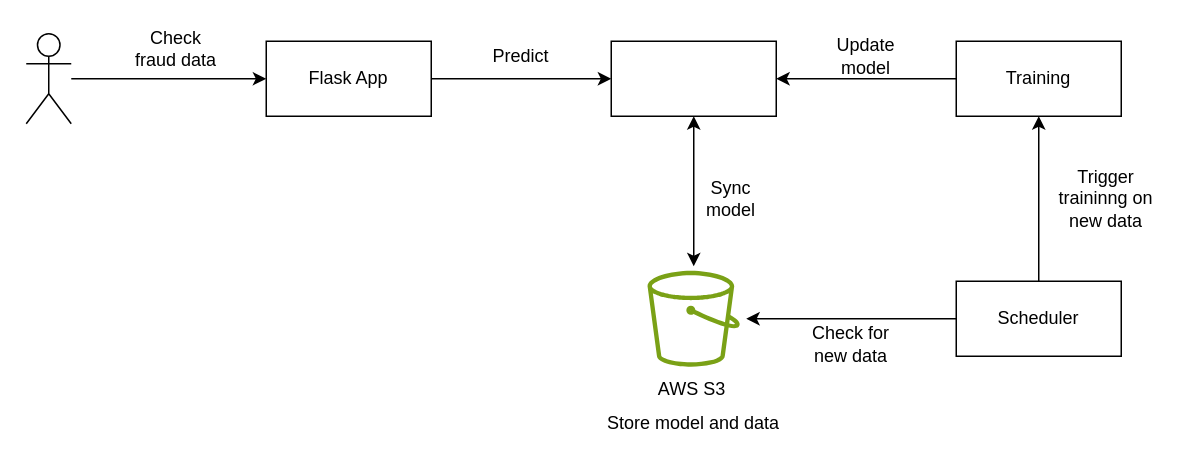
The diagram is 1193 pixels wide and 471 high, and some of its shapes have lost their labels. Here are the shapes that lost their labels. From the top down, the box of each, then its label:
(25, 32, 71, 124): Actor
(610, 40, 776, 116): ML Model
